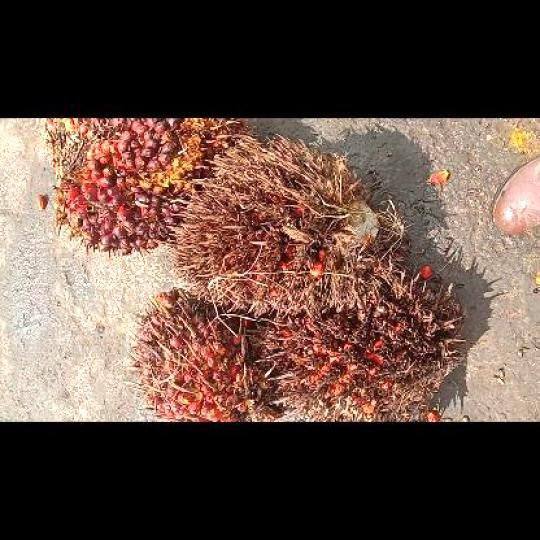masak: (43, 118, 244, 261), (125, 288, 275, 421)
terlalu masak: (161, 133, 400, 316), (246, 272, 463, 421)
